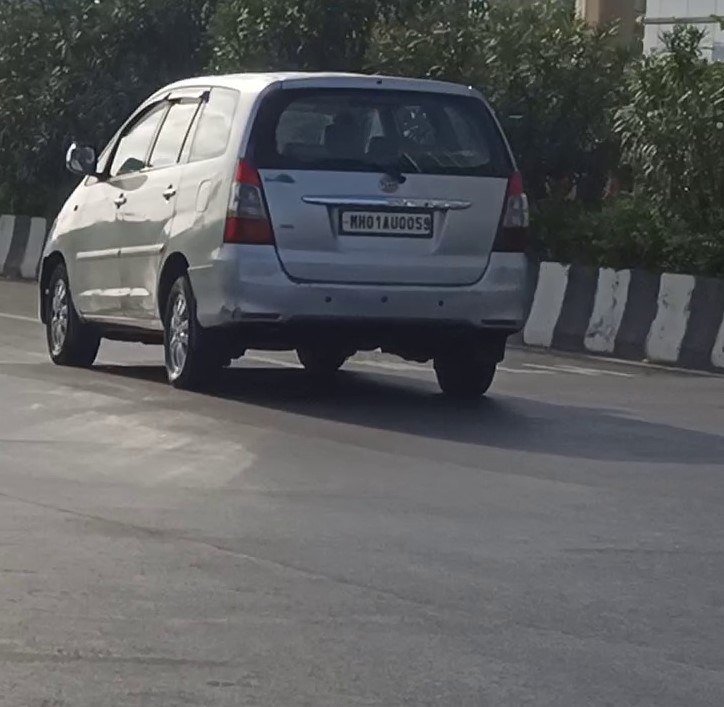MH01AU0059: (341, 208, 433, 235)
